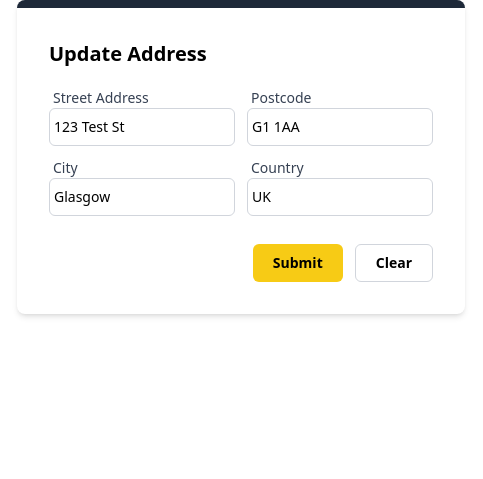
Scenario: APP - pages/user - OnboardingForm › handleSubmit early return and successful submission loop
Clear the field labelled "Street Address" at {"x": 142, "y": 127}, box 49,108 -> 235,146
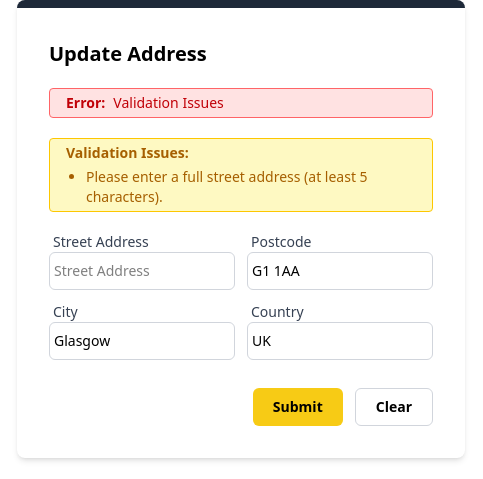
Click the button "Submit".
click(298, 407)  # box 253,388 -> 343,426
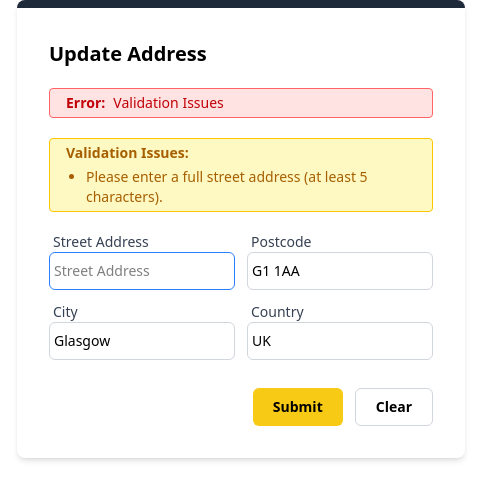
expect the text "Validation Issues" is shown: met, box 105,93 -> 224,112
Type "123 Valid Street" into the field labelled "Street Address".
click(142, 271); type("123 Valid Street")  # box 49,252 -> 235,290
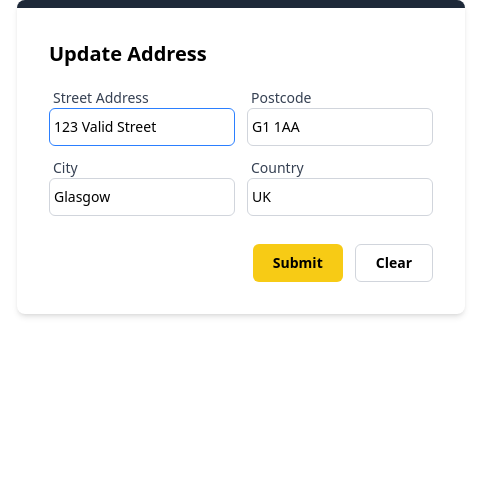
Click the button "Submit".
click(298, 263)  # box 253,244 -> 343,282
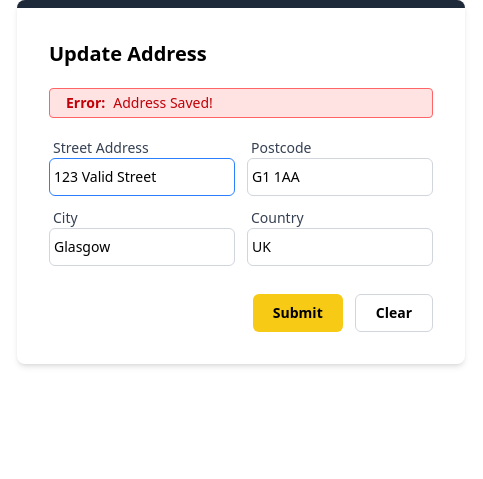
expect the text "Address Saved!" is shown: met, box 105,93 -> 213,112
